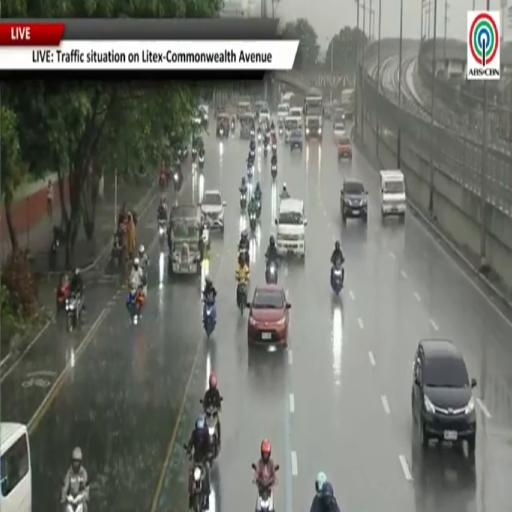bus: (0, 423, 31, 511), (304, 88, 323, 117)
car: (412, 339, 476, 453), (248, 285, 290, 348), (340, 180, 368, 222), (200, 190, 226, 233), (337, 136, 352, 162), (289, 130, 302, 151), (288, 107, 302, 126), (332, 106, 345, 126), (334, 122, 346, 140), (259, 105, 270, 124), (198, 104, 209, 123)
jeepney: (240, 114, 255, 139), (216, 114, 230, 137), (237, 101, 251, 119)
motorcycle: (204, 407, 219, 462), (189, 462, 205, 511), (126, 290, 143, 325), (65, 294, 80, 332), (256, 480, 274, 511), (203, 299, 216, 338), (111, 231, 124, 269), (56, 283, 69, 313), (331, 263, 343, 295), (66, 491, 84, 511), (49, 237, 59, 270), (237, 283, 247, 315), (266, 261, 277, 283), (239, 247, 250, 267), (159, 219, 166, 250), (174, 171, 182, 191), (249, 213, 257, 232), (159, 173, 167, 190), (180, 147, 188, 162), (240, 194, 247, 211), (247, 163, 254, 180), (271, 165, 277, 181), (256, 200, 261, 219), (191, 147, 197, 162), (198, 155, 204, 170), (249, 150, 255, 161), (257, 132, 262, 144), (219, 127, 224, 137), (264, 146, 268, 157), (279, 126, 283, 137), (272, 143, 276, 154), (231, 121, 235, 132), (271, 128, 275, 137), (250, 130, 254, 137)
truck: (168, 204, 204, 276), (304, 88, 323, 138), (341, 89, 355, 119)
